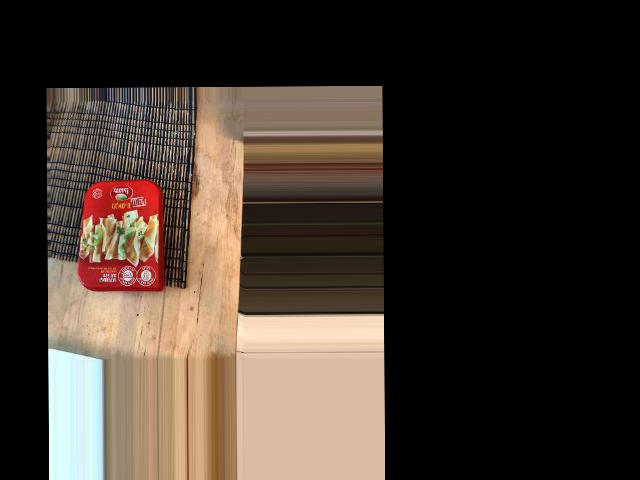cheese: (37, 133, 170, 220)
